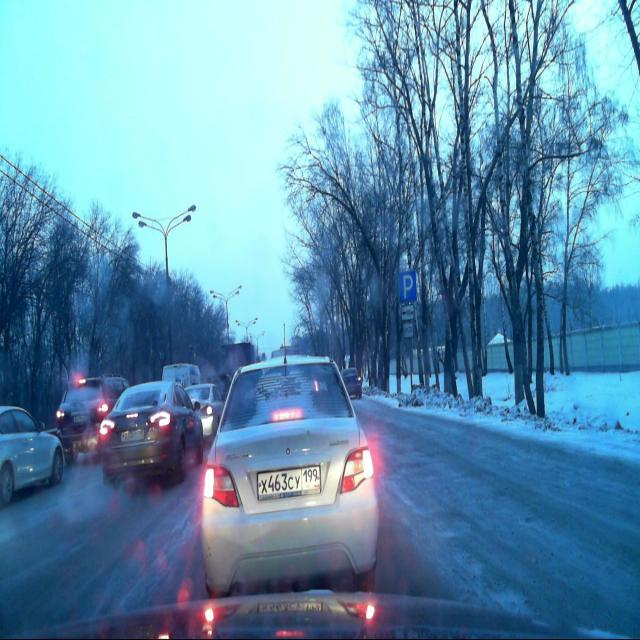road sign: (398, 269, 417, 301), (401, 305, 414, 319)
